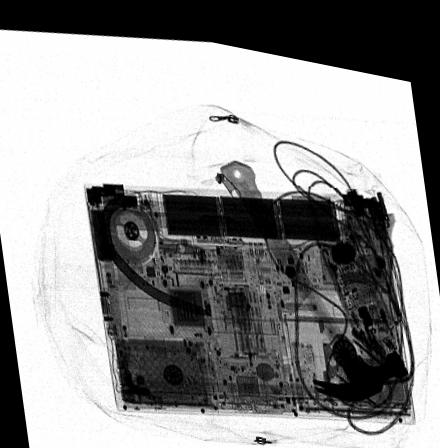Hammer: (219, 149, 408, 385)
